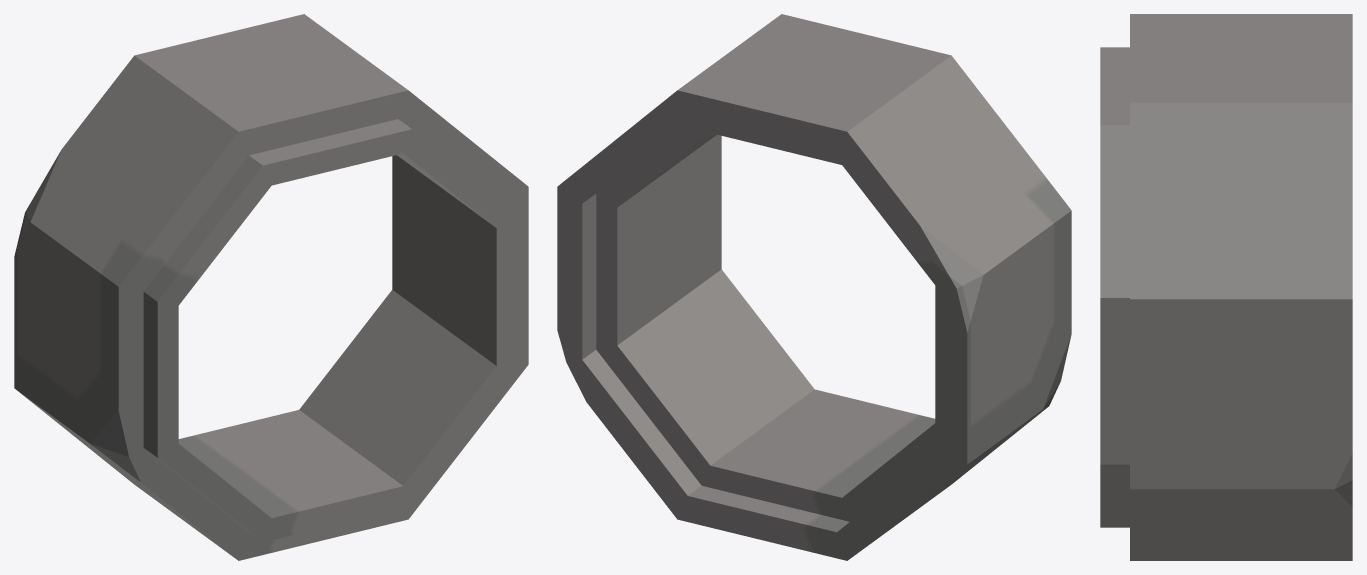
File: SM_Prop_Pipe_Concrete_Large_03.fbx
3 renders of one model, left to right at view 1: azimuth 30°, elevation 25°; view 2: azimuth 150°, elevation 25°; view 3: azimuth 270°, elevation 25°, orthographic. The views are drawn at different scales.
Visible parts, largest first — view 1: SM_Prop_Pipe_Concrete_Large_03; view 2: SM_Prop_Pipe_Concrete_Large_03; view 3: SM_Prop_Pipe_Concrete_Large_03.
Part boxes in pixels (bbox=[...]): SM_Prop_Pipe_Concrete_Large_03: bbox=[14, 14, 528, 560]; SM_Prop_Pipe_Concrete_Large_03: bbox=[557, 14, 1071, 560]; SM_Prop_Pipe_Concrete_Large_03: bbox=[1100, 14, 1352, 560].
Size of the model in its own units: 114 by 114 by 56.69.
